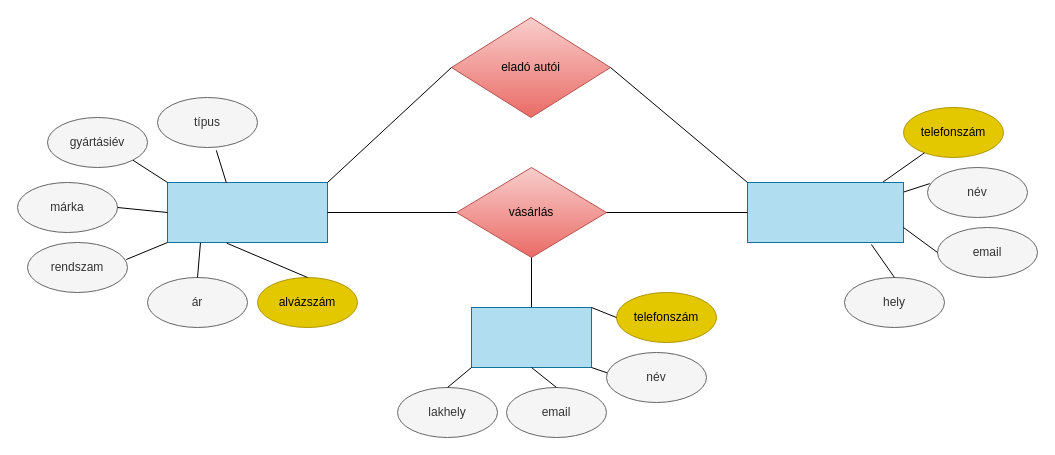
Some shapes in this 1055 by 455 pixel diagram are drawn without their labels. Each missing label, with the centre of its shape:
"autó" belongs at point (247, 212).
"eladó" belongs at point (825, 212).
"vásárló" belongs at point (531, 337).
